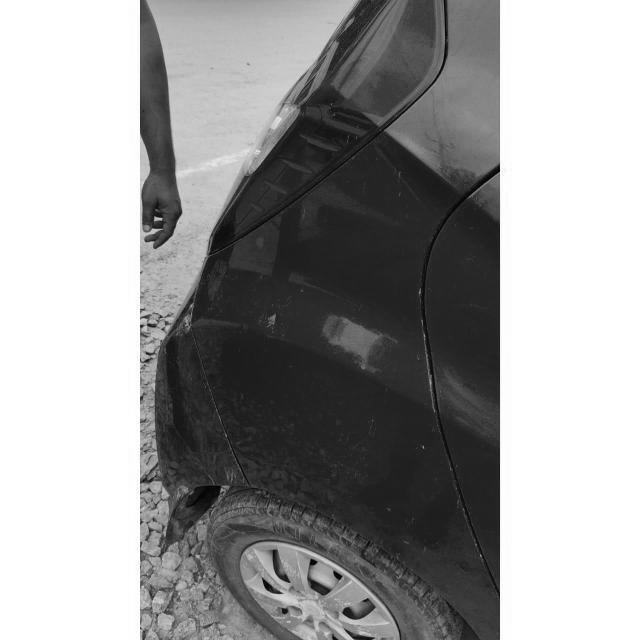rear-bumper-dent: (153, 316, 227, 560)
